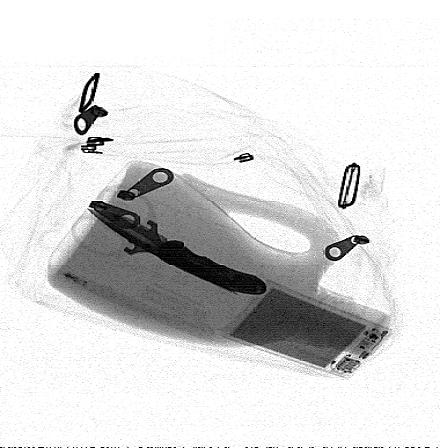Knife: (87, 209, 266, 294)
Powerbank: (219, 279, 394, 380)
Scissors: (69, 184, 262, 294)
